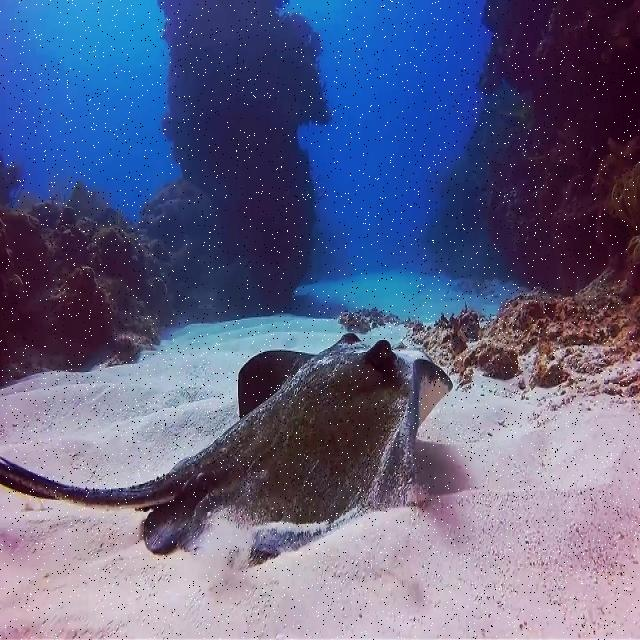fish: (0, 335, 453, 564)
sea-floor: (0, 0, 333, 389), (341, 0, 639, 421)
